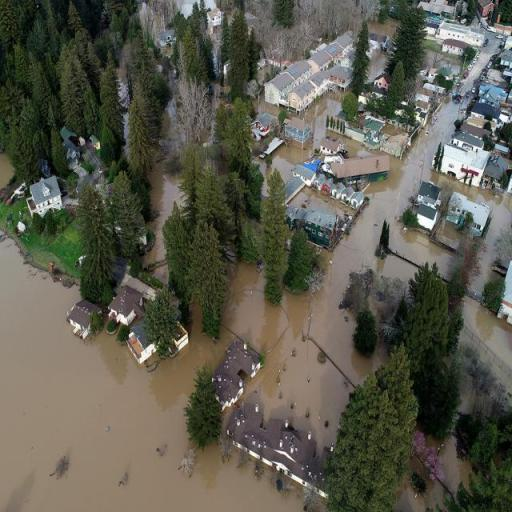flood: (0, 104, 512, 512), (142, 166, 182, 284), (464, 297, 512, 367), (298, 93, 342, 150), (270, 145, 313, 181)
house: (230, 403, 324, 480), (212, 334, 260, 416), (287, 199, 344, 248), (105, 270, 150, 328), (26, 174, 72, 224), (441, 135, 486, 186), (329, 152, 392, 185), (446, 190, 489, 238), (66, 298, 101, 340), (438, 22, 485, 48), (496, 256, 512, 326), (266, 72, 295, 108), (289, 79, 316, 114), (364, 108, 406, 130), (412, 203, 442, 233), (284, 118, 311, 146), (464, 115, 498, 137), (470, 100, 500, 122), (478, 82, 508, 104), (417, 180, 442, 205), (291, 164, 316, 188), (252, 113, 276, 138), (330, 66, 354, 90), (418, 0, 456, 15), (309, 69, 330, 96), (487, 155, 508, 182), (288, 60, 312, 82), (442, 37, 466, 58), (310, 49, 332, 71), (342, 186, 364, 208), (415, 88, 432, 112), (324, 41, 344, 61), (336, 34, 354, 55), (315, 175, 332, 197), (373, 72, 390, 90), (159, 30, 176, 48), (499, 50, 512, 70), (478, 0, 494, 15), (208, 10, 222, 27), (60, 128, 76, 142), (332, 182, 343, 200), (342, 52, 356, 66), (89, 134, 100, 149)
